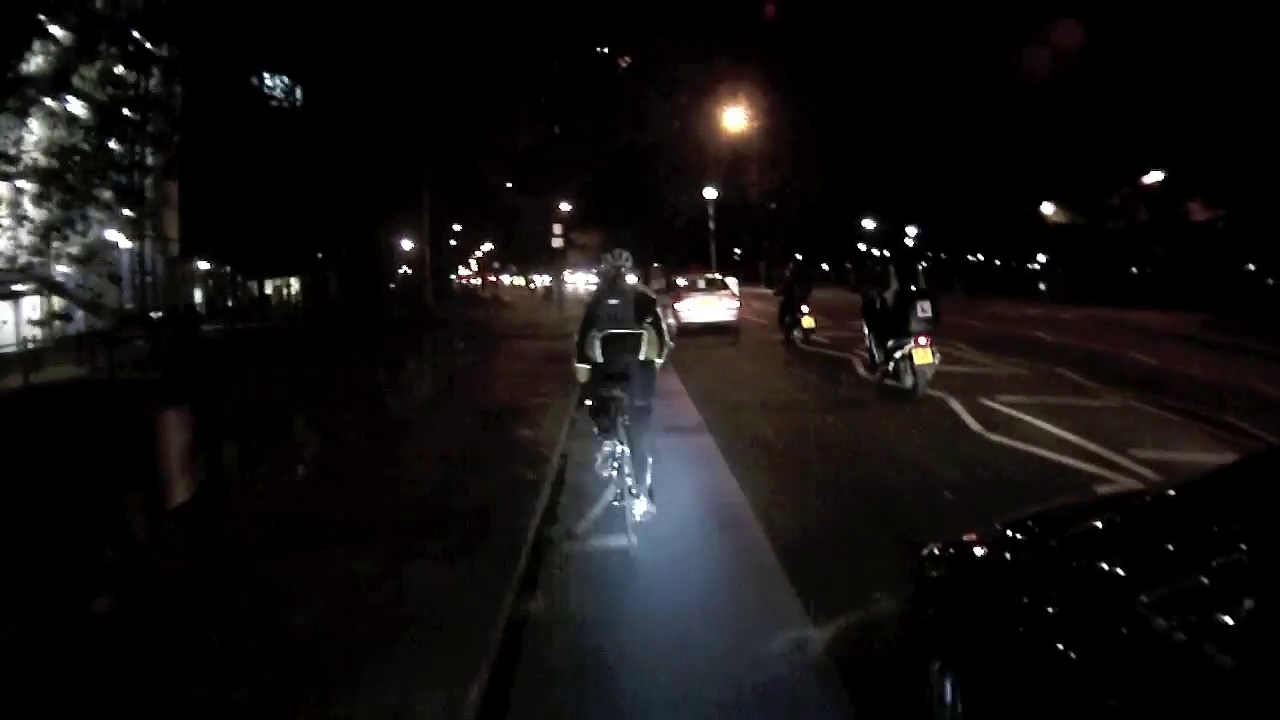cyclist_back: (572, 241, 675, 561), (854, 239, 939, 399), (769, 247, 823, 349)
